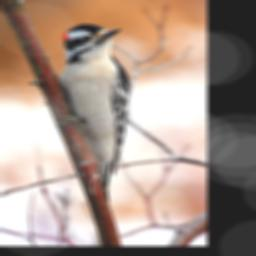Woodpecker: (54, 23, 129, 202)
